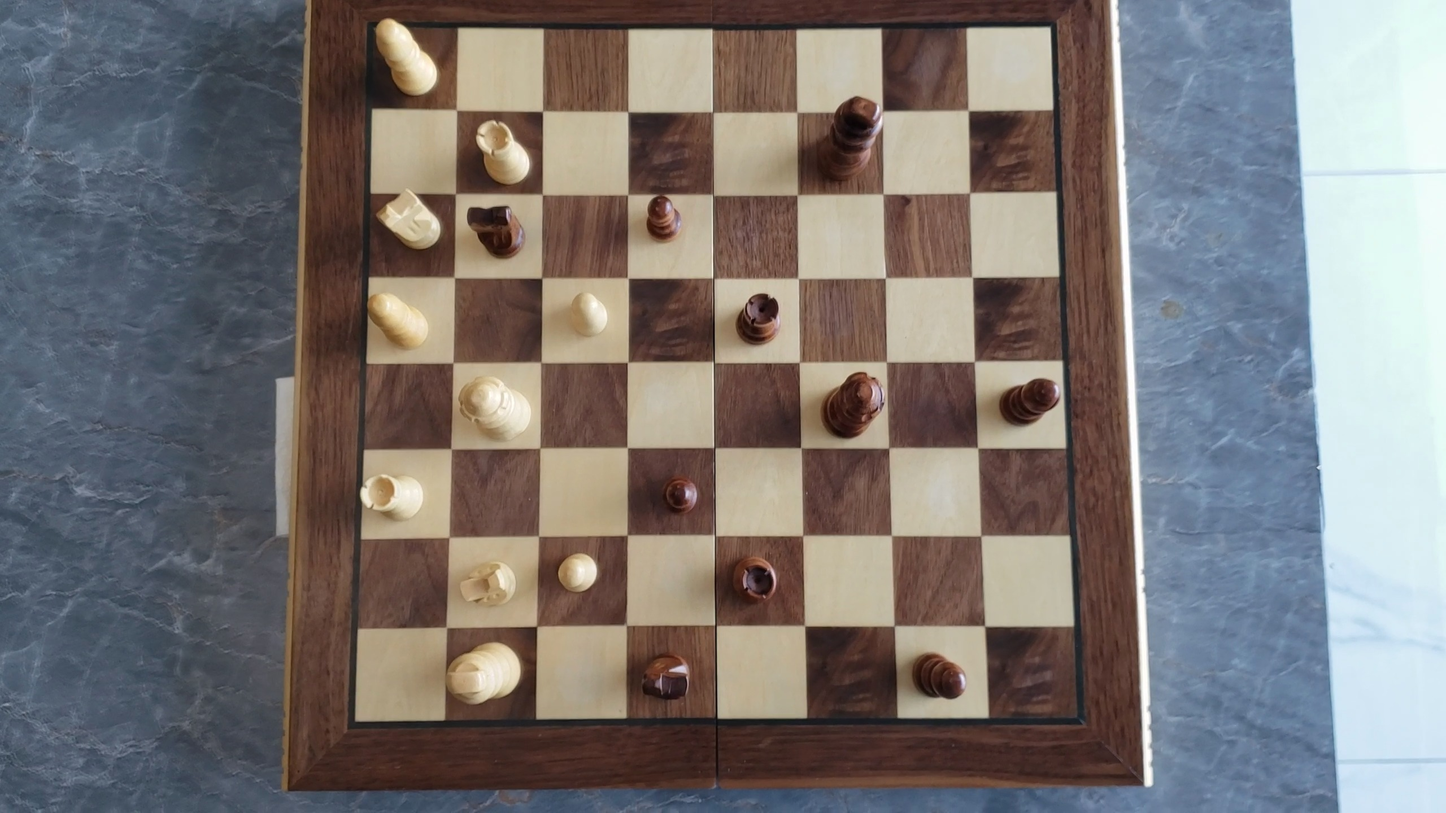black-bishop: (998, 374, 1060, 426), (909, 647, 969, 700)
black-king: (817, 92, 886, 184)
black-knight: (632, 642, 693, 712), (467, 200, 528, 260)
black-pawn: (643, 190, 683, 244), (661, 473, 702, 516)
black-queen: (812, 366, 886, 446)
black-rook: (724, 550, 778, 609), (734, 289, 783, 347)
white-bishop: (366, 10, 449, 99), (361, 288, 436, 360)
white-king: (436, 642, 531, 706)
white-knight: (374, 185, 444, 253), (455, 557, 520, 608)
white-pawn: (565, 287, 613, 340), (554, 549, 603, 595)
white-queen: (450, 369, 541, 444)
white-rook: (357, 462, 429, 531), (472, 116, 534, 189)
